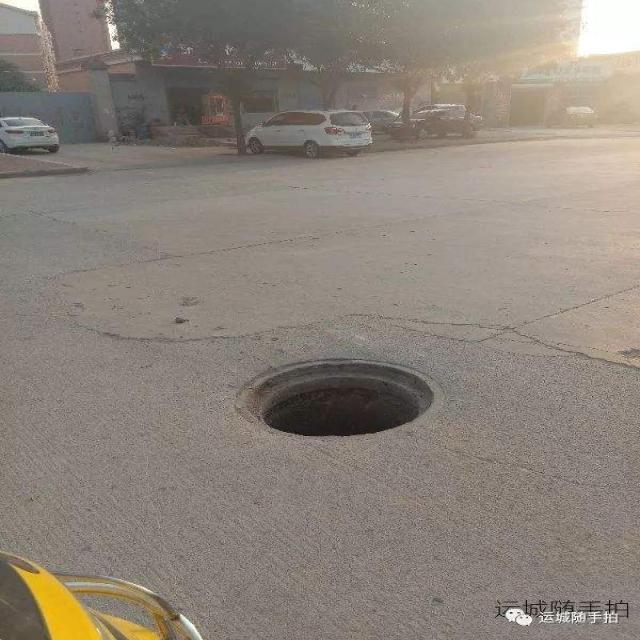cracks: (507, 324, 640, 376), (333, 301, 517, 334)
manhole-cover: (209, 344, 479, 466)
